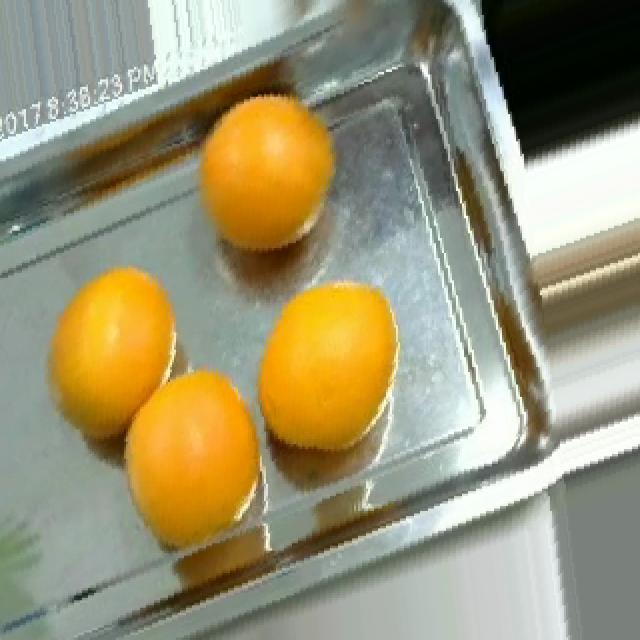Fruit: (236, 253, 422, 481), (172, 70, 368, 286), (28, 243, 204, 444)
